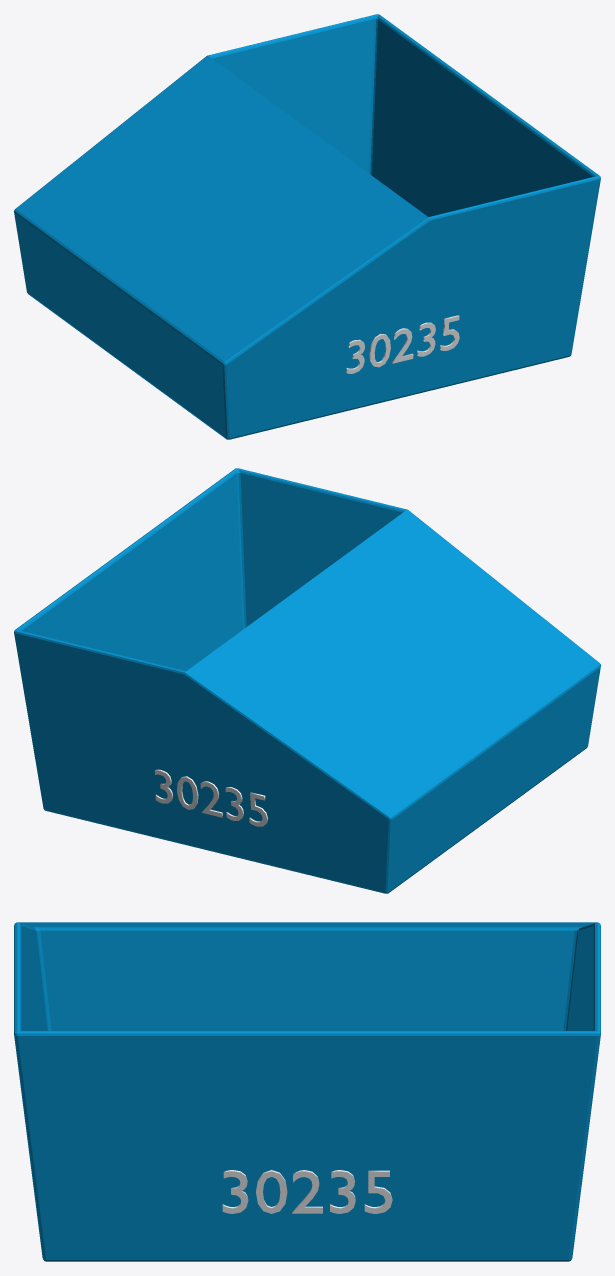
3 renders of one model, top to bottom at view 1: azimuth 30°, elevation 25°; view 2: azimuth 150°, elevation 25°; view 3: azimuth 270°, elevation 25°, orthographic. The views are drawn at different scales.
Parts seen in each view (by area): view 1: us-picking-bin-30235; view 2: us-picking-bin-30235; view 3: us-picking-bin-30235.
Part boxes in pixels (x1,y1,x2,y2): us-picking-bin-30235: (14,14,600,439); us-picking-bin-30235: (14,468,600,893); us-picking-bin-30235: (14,922,600,1261).
Bounding box in the file's own units: 0.268 × 0.127 × 0.2786.
